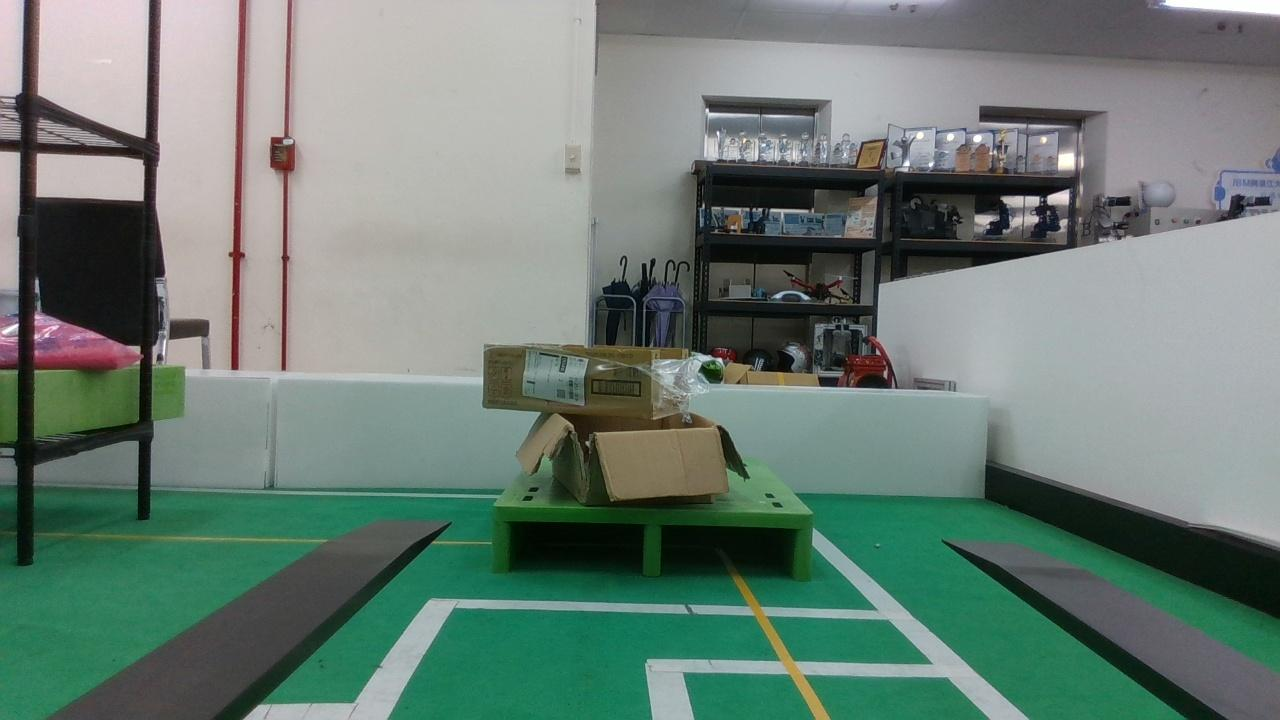Pallet: (484, 502, 824, 579)
